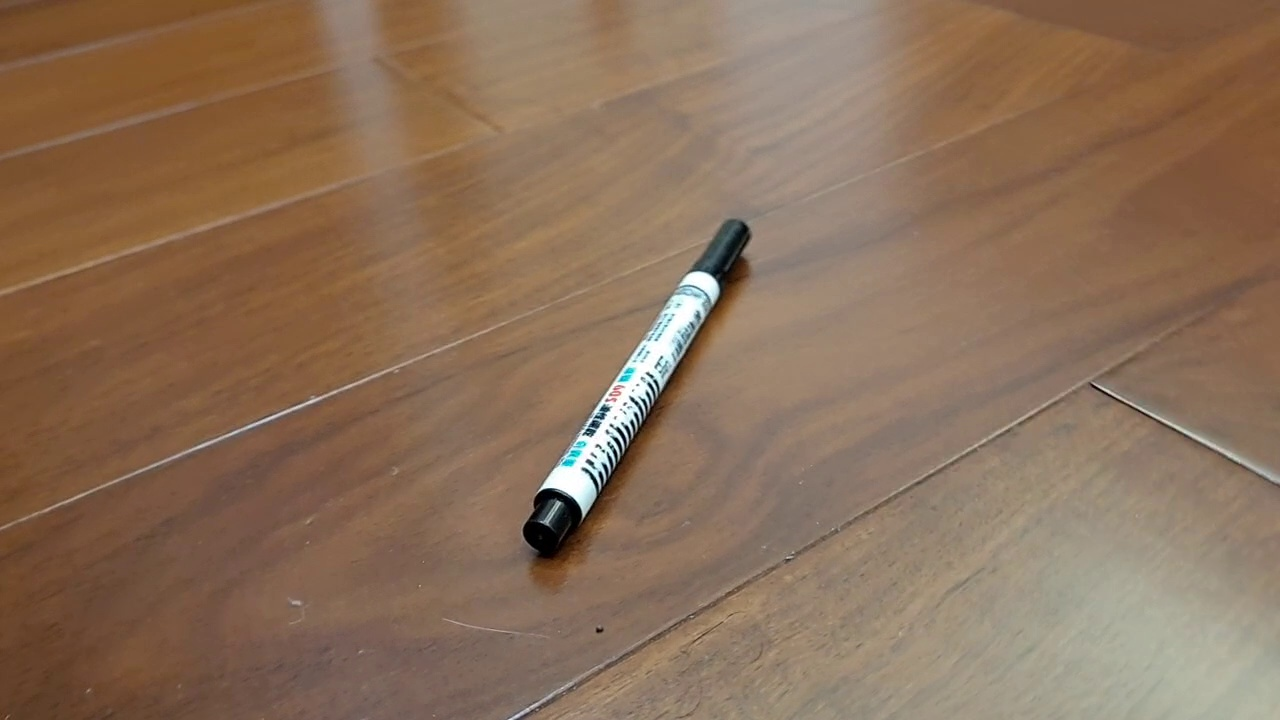pen: (522, 218, 752, 558)
